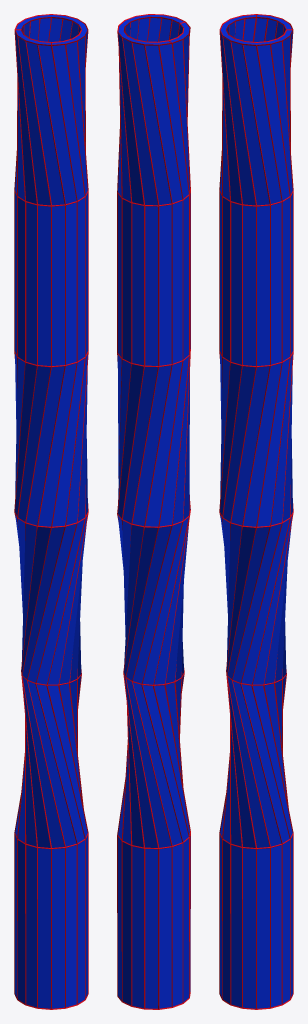
3 views of the same model, side by side, from view 1: azimuth 90°, elevation 25°; view 2: azimuth 210°, elevation 25°; view 3: azimuth 270°, elevation 25° (orthographic).
Parts seen in each view (by area): view 1: L2_Tube; view 2: L2_Tube; view 3: L2_Tube.
Part boxes in pixels (x1,y1,x2,y2): L2_Tube: [14, 14, 88, 1009]; L2_Tube: [117, 14, 190, 1009]; L2_Tube: [219, 14, 293, 1009].
Size of the model in its own units: 1120 by 16018 by 1120.
